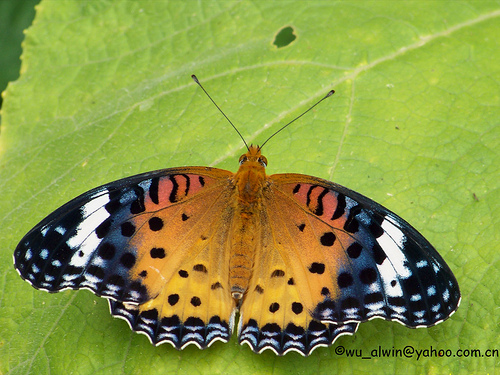Argyreus hyperbius: (6, 69, 465, 356)
butterfly: (8, 71, 467, 358)
